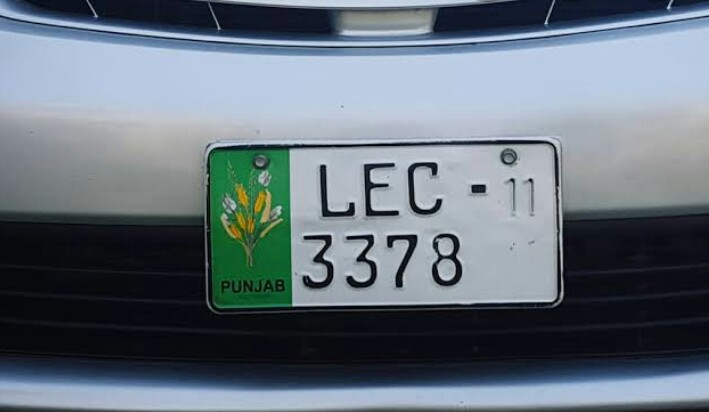license plate: (204, 143, 570, 314)
